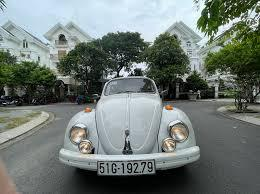volkswagen: (60, 77, 204, 163)
